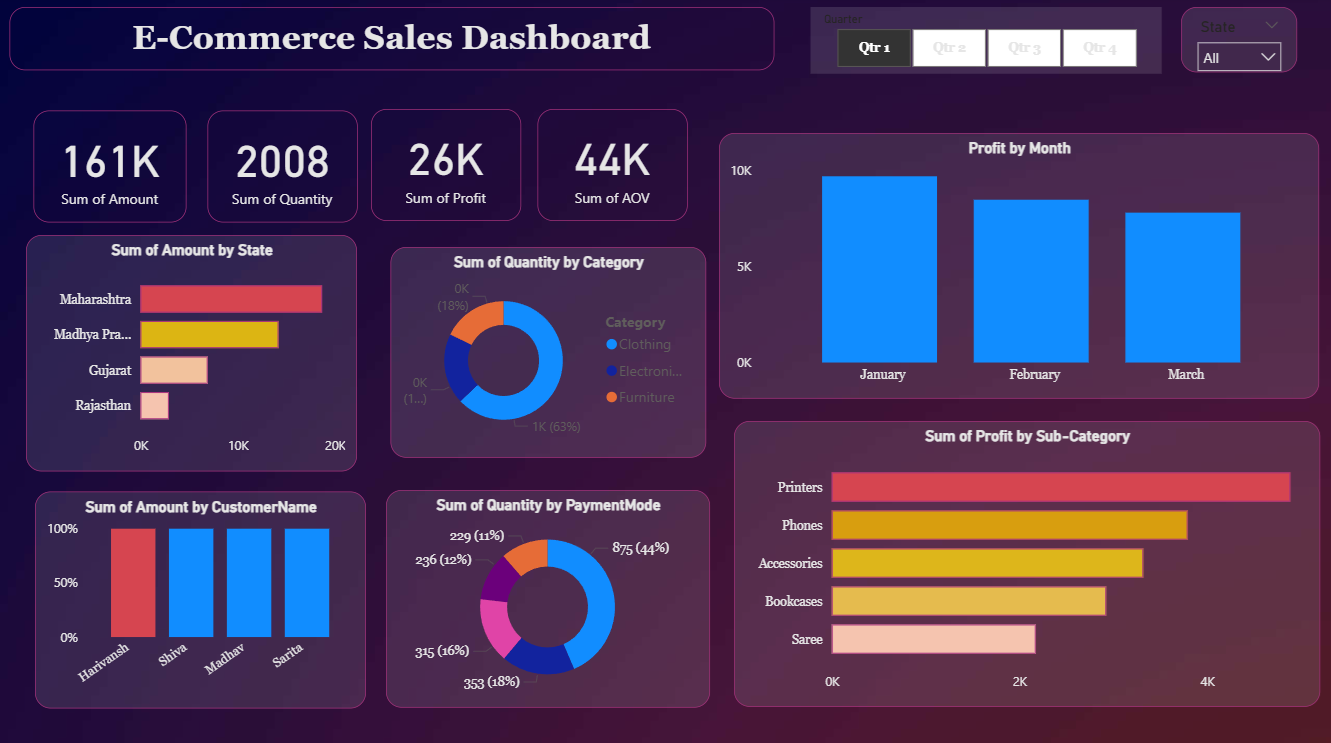

Layout of this report page (visuals, bound fields, positions):
{"tool":"powerbi","page":{"name":"Page 1","canvas":[1280,720],"ordinal":0},"visuals":[{"type":"textbox","box":[9.4,11.3,733.2,60.5],"z":0},{"type":"columnChart","title":"Profit by Month","fields":{"Category":["Orders (4).Order Date.Variation.Date Hierarchy.Month"],"Y":["Details.Profit"]},"box":[690.5,131.7,575.4,254.4],"z":1000},{"type":"clusteredBarChart","fields":{"Y":["Details.Profit"],"Category":["Details.Sub-Category"]},"box":[704.1,408.8,561.8,274.1],"z":2000},{"type":"donutChart","fields":{"Y":["Details.Quantity"],"Category":["Details.Category"]},"box":[376.1,241.9,302.4,202.2],"z":3000},{"type":"donutChart","fields":{"Y":["Details.Quantity"],"Category":["Details.PaymentMode"]},"box":[371,473.9,310.4,209],"z":4000},{"type":"card","fields":{"Values":["Details.Amount"]},"box":[33.3,110.5,146.9,107.5],"z":5000},{"type":"card","fields":{"Values":["Details.Quantity"]},"box":[199.9,110.5,143.8,107.5],"z":6000},{"type":"card","fields":{"Values":["Details.Profit"]},"box":[357.4,109,143.8,107.5],"z":7000},{"type":"card","fields":{"Values":["Details.AOV"]},"box":[516.3,109,143.8,107.5],"z":8000},{"type":"clusteredBarChart","fields":{"Category":["Orders (4).State"],"Y":["Details.Amount"]},"box":[26.5,230.6,317.5,226.8],"z":9000},{"type":"hundredPercentStackedColumnChart","fields":{"Category":["Orders (4).CustomerName"],"Y":["Details.Amount"]},"box":[34,476.2,317.5,207.9],"z":10000},{"type":"slicer","fields":{"Values":["Orders (4).State"]},"box":[1133.9,11.3,111.5,62.4],"z":11000},{"type":"slicer","fields":{"Values":["Orders (4).Order Date.Variation.Date Hierarchy.Quarter"]},"box":[778.6,11.3,336.4,64.3],"z":12000}]}

Visuals, with their boxes in screenshot pixels (x1, y1, x2, y2), scaled from the page's 1280x720 canvas onto the 1331x743 screenshot:
textbox: (10,12,772,74)
"Profit by Month" columnChart: (718,136,1316,398)
clusteredBarChart - Details.Profit x Details.Sub-Category: (732,422,1316,705)
donutChart - Details.Quantity x Details.Category: (391,250,706,458)
donutChart - Details.Quantity x Details.PaymentMode: (386,489,709,705)
card - Details.Amount: (35,114,187,225)
card - Details.Quantity: (208,114,357,225)
card - Details.Profit: (372,112,521,223)
card - Details.AOV: (537,112,686,223)
clusteredBarChart - Orders (4).State x Details.Amount: (28,238,358,472)
hundredPercentStackedColumnChart - Orders (4).CustomerName x Details.Amount: (35,491,366,706)
slicer - Orders (4).State: (1179,12,1295,76)
slicer - Orders (4).Order Date.Variation.Date Hierarchy.Quarter: (810,12,1159,78)
